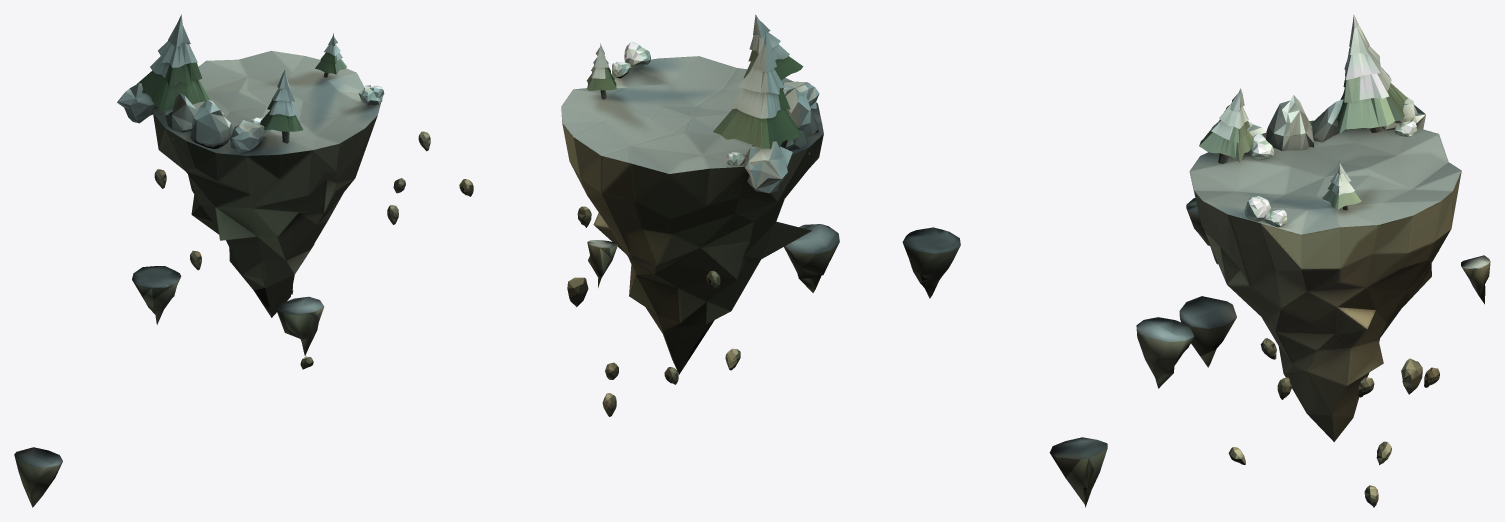
Rendered from paperworld_platform_snow.fbx.
3 views of the same model, side by side, from view 1: azimuth 30°, elevation 25°; view 2: azimuth 150°, elevation 25°; view 3: azimuth 270°, elevation 25° (orthographic). The views are drawn at different scales.
Visible parts, largest first — view 1: ground.2.2, Tanne.3, ground.3, ground, ground.1, Polygon-Objekt.17, Tanne.2, Polygon-Objekt.2, Polygon-Objekt, Polygon-Objekt.16, Tanne; view 2: ground.2.2, Tanne.3, ground.1, ground.3, ground, Polygon-Objekt.2, Tanne.2, Polygon-Objekt.17, ground.2, Tanne; view 3: ground.2.2, Tanne.3, ground, ground.3, Tanne.2, Polygon-Objekt.17, Tanne, ground.2, Polygon-Objekt.16, Polygon-Objekt.15, Polygon-Objekt.2, Polygon-Objekt.6 (+2 smaller).
Part boxes in pixels (bbox=[...]): ground.2.2: bbox=[152, 51, 380, 317]; Tanne.3: bbox=[137, 14, 210, 111]; ground.3: bbox=[14, 447, 62, 507]; ground: bbox=[276, 296, 324, 355]; ground.1: bbox=[132, 266, 181, 324]; Polygon-Objekt.17: bbox=[190, 99, 233, 148]; Tanne.2: bbox=[260, 70, 303, 131]; Polygon-Objekt.2: bbox=[117, 83, 157, 123]; Polygon-Objekt: bbox=[230, 120, 265, 153]; Polygon-Objekt.16: bbox=[165, 92, 196, 140]; Tanne: bbox=[315, 33, 346, 74]; ground.2.2: bbox=[561, 56, 823, 374]; Tanne.3: bbox=[713, 30, 801, 148]; ground.1: bbox=[902, 227, 960, 298]; ground.3: bbox=[1049, 437, 1107, 507]; ground: bbox=[784, 224, 839, 292]; Polygon-Objekt.2: bbox=[744, 141, 792, 193]; Tanne.2: bbox=[743, 14, 803, 80]; Polygon-Objekt.17: bbox=[785, 88, 818, 135]; ground.2: bbox=[587, 240, 617, 287]; Tanne: bbox=[586, 43, 616, 90]; ground.2.2: bbox=[1189, 120, 1461, 441]; Tanne.3: bbox=[1337, 15, 1407, 133]; ground: bbox=[1136, 317, 1194, 388]; ground.3: bbox=[1179, 296, 1236, 367]; Tanne.2: bbox=[1199, 88, 1253, 162]; Polygon-Objekt.17: bbox=[1266, 95, 1313, 150]; Tanne: bbox=[1322, 160, 1361, 209]; ground.2: bbox=[1461, 255, 1490, 304]; Polygon-Objekt.16: bbox=[1311, 99, 1346, 142]; Polygon-Objekt.15: bbox=[1401, 358, 1422, 394]; Polygon-Objekt.2: bbox=[1382, 96, 1425, 130]; Polygon-Objekt.6: bbox=[1244, 196, 1270, 221].
Size of the model in its own units: 490 by 389 by 262.
